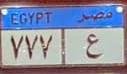7: (10, 27, 25, 60), (23, 32, 38, 60), (40, 30, 52, 61)
ع: (85, 27, 104, 59)
